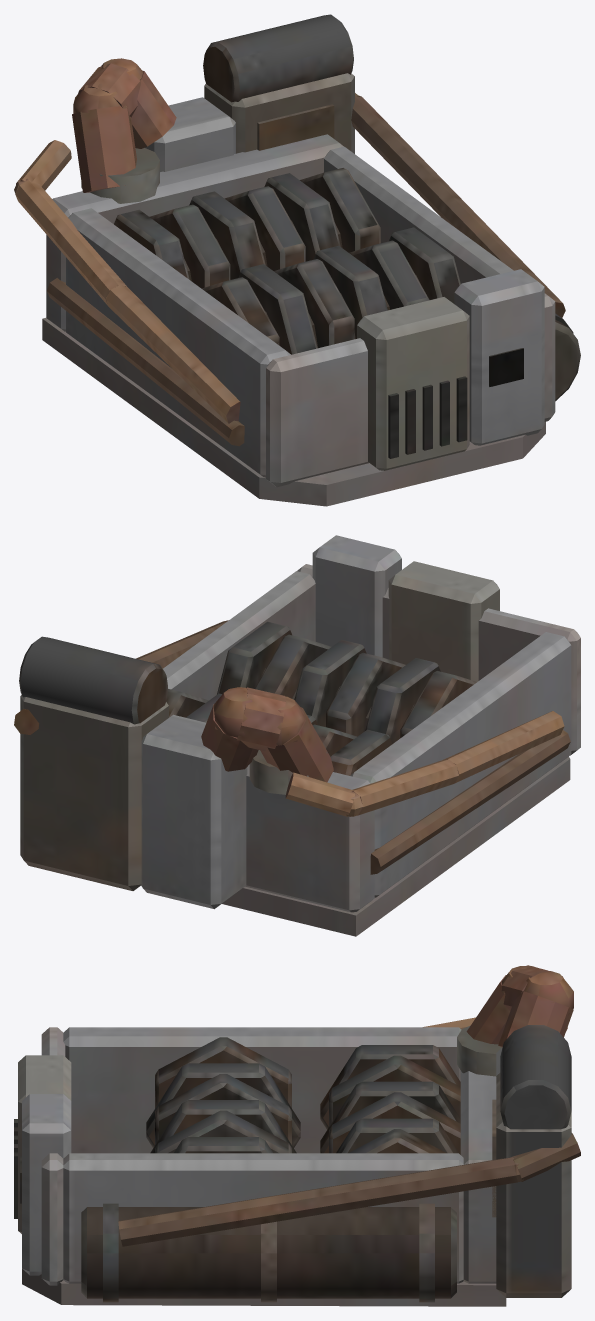
The model's file is crusher.glb.
3 renders of one model, top to bottom at view 1: azimuth 30°, elevation 25°; view 2: azimuth 150°, elevation 25°; view 3: azimuth 270°, elevation 25°, orthographic.
Parts seen in each view (by area): view 1: body, anim_roll_crusher_n, anim_roll_crusher_s; view 2: body, anim_roll_crusher_s, anim_roll_crusher_n; view 3: body, anim_roll_crusher_s, anim_roll_crusher_n.
Boxes of the visible parts, x1,y1,x2,y2 form: body: [14, 14, 580, 506]; anim_roll_crusher_n: [114, 168, 380, 288]; anim_roll_crusher_s: [202, 227, 460, 354]; body: [14, 535, 580, 936]; anim_roll_crusher_s: [217, 621, 476, 743]; anim_roll_crusher_n: [166, 689, 392, 775]; body: [14, 965, 580, 1306]; anim_roll_crusher_s: [146, 1037, 300, 1153]; anim_roll_crusher_n: [320, 1045, 460, 1154].
Bounding box in the file's own units: 2.07 × 1.35 × 2.87.
1 material, 1 textured.
